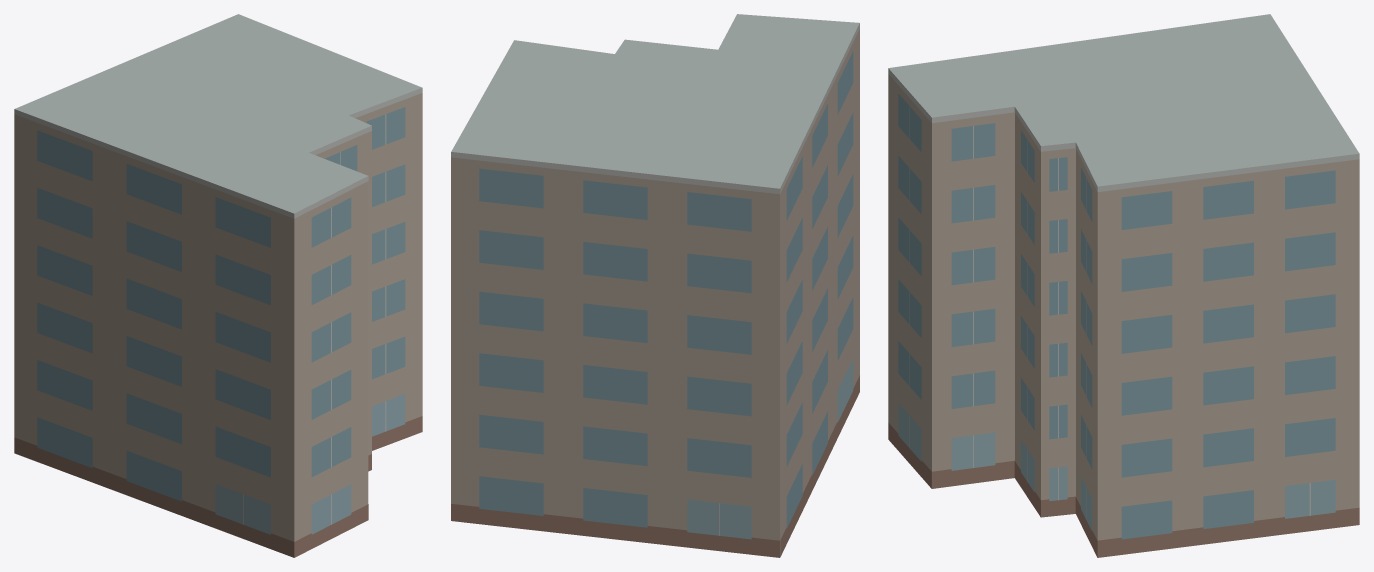
File: survey-upis-32571423.glb
3 views of the same model, side by side, from view 1: azimuth 30°, elevation 25°; view 2: azimuth 150°, elevation 25°; view 3: azimuth 270°, elevation 25° (orthographic). The views are drawn at different scales.
Visible parts, largest first — view 1: survey-upis-32571423.tmp; view 2: survey-upis-32571423.tmp; view 3: survey-upis-32571423.tmp.
Boxes of the visible parts, x1=… form: survey-upis-32571423.tmp: x1=14, y1=14, x2=422, y2=557; survey-upis-32571423.tmp: x1=451, y1=14, x2=859, y2=557; survey-upis-32571423.tmp: x1=888, y1=14, x2=1359, y2=557.
Bounding box in the file's own units: 16.26 × 16.3 × 18.76.
